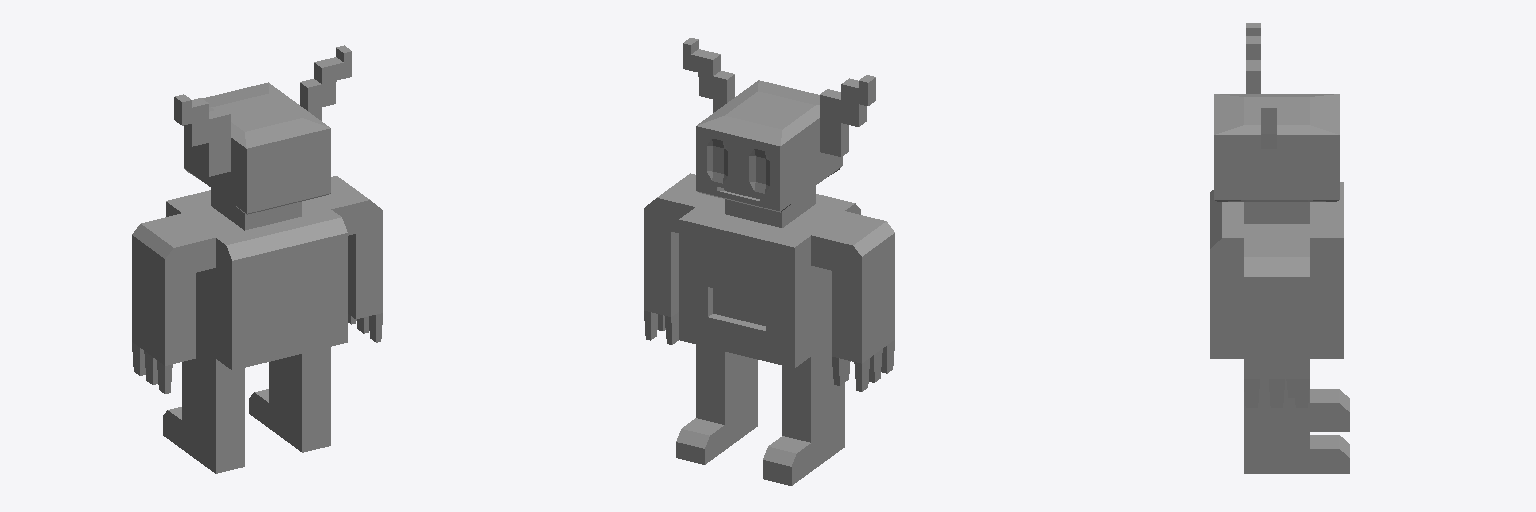
Rendered from enemy.obj.
3 renders of one model, left to right at view 1: azimuth 30°, elevation 25°; view 2: azimuth 150°, elevation 25°; view 3: azimuth 270°, elevation 25°, orthographic.
Parts seen in each view (by area): view 1: Cube_Cube.002; view 2: Cube_Cube.002; view 3: Cube_Cube.002.
Boxes of the visible parts, box(x1,y1,x2,y2) form: Cube_Cube.002: box(132, 45, 382, 473); Cube_Cube.002: box(644, 38, 894, 485); Cube_Cube.002: box(1210, 23, 1349, 473).
Bounding box in the file's own units: 3.78 × 6.3 × 2.09.